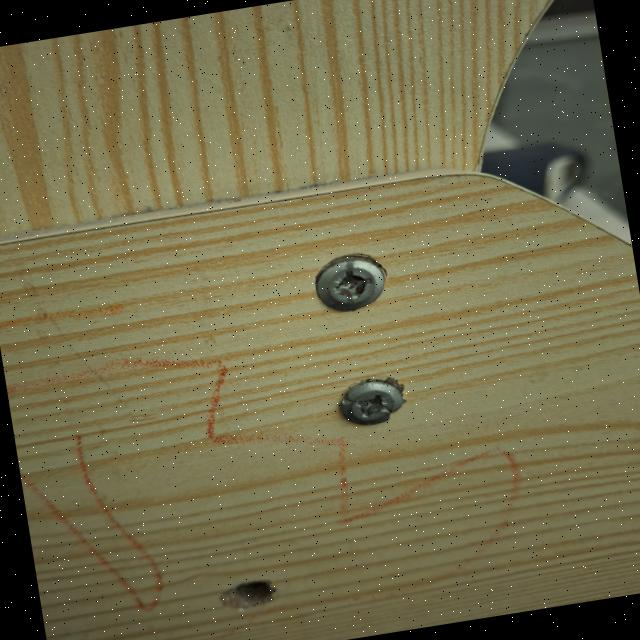Phillips: (301, 248, 395, 317), (318, 370, 414, 437)
